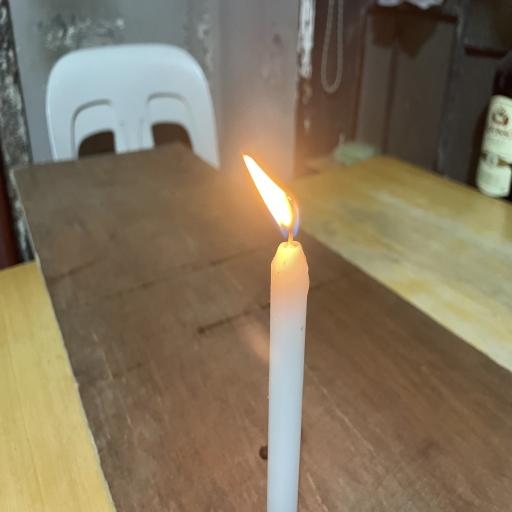fire: (231, 141, 311, 262)
